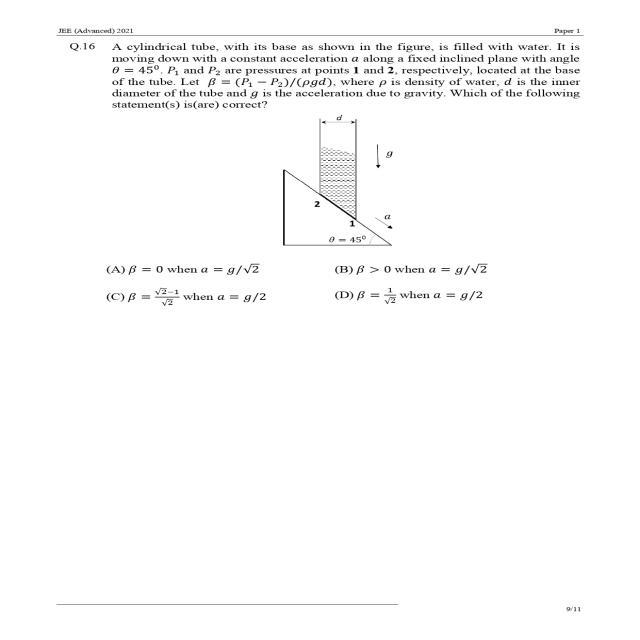Answer_Block: (37, 255, 605, 323)
Question_Answer_Block: (39, 37, 607, 326)
Question_Block: (39, 38, 607, 256)
Question_Paper_Area: (39, 32, 607, 454)
